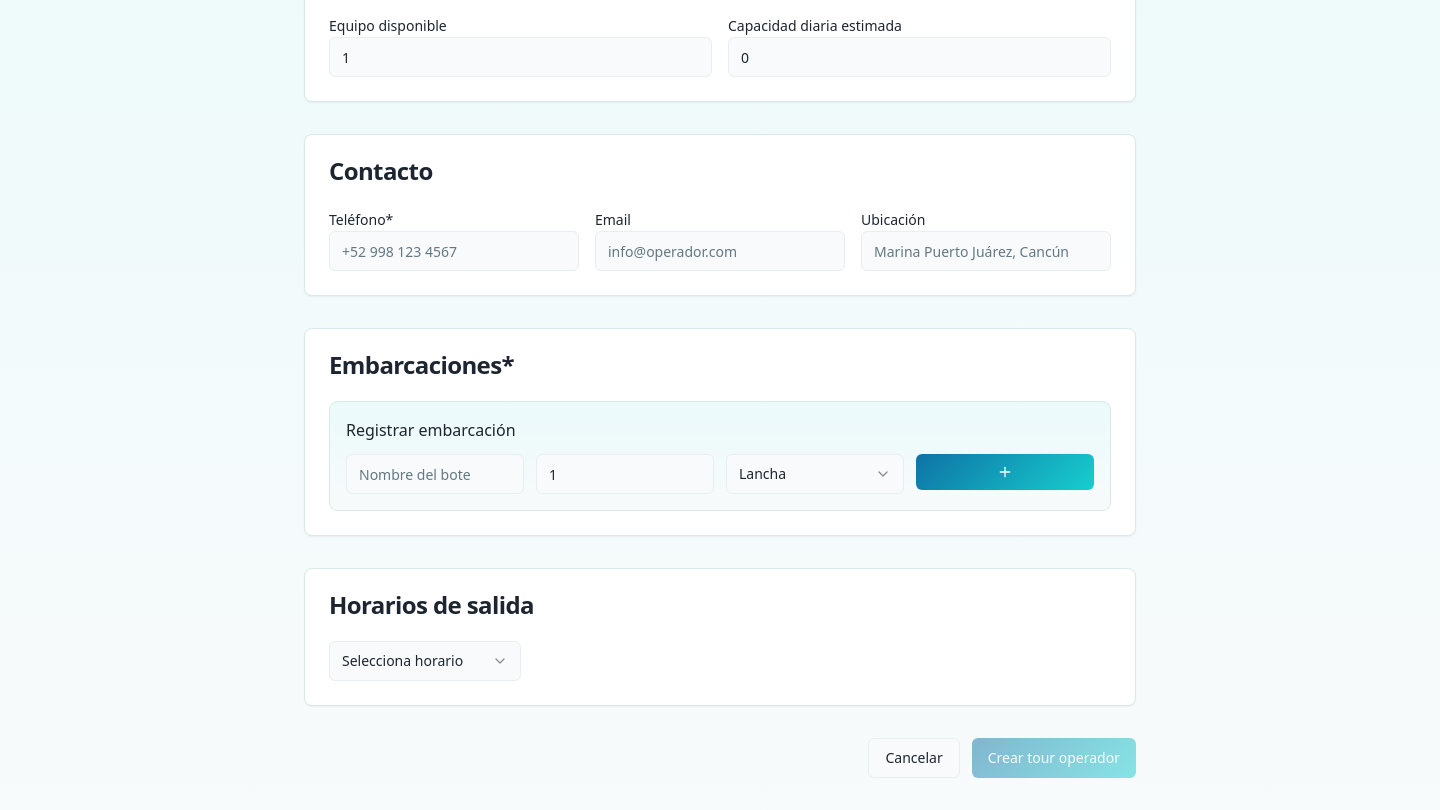
AddTourOperatorForm › resets staging inputs after adding a boat or schedule
(page scrolled)
In the field with placeholder "Nombre del bote": (435, 474) [346,454,524,494], type "Sea Breeze"
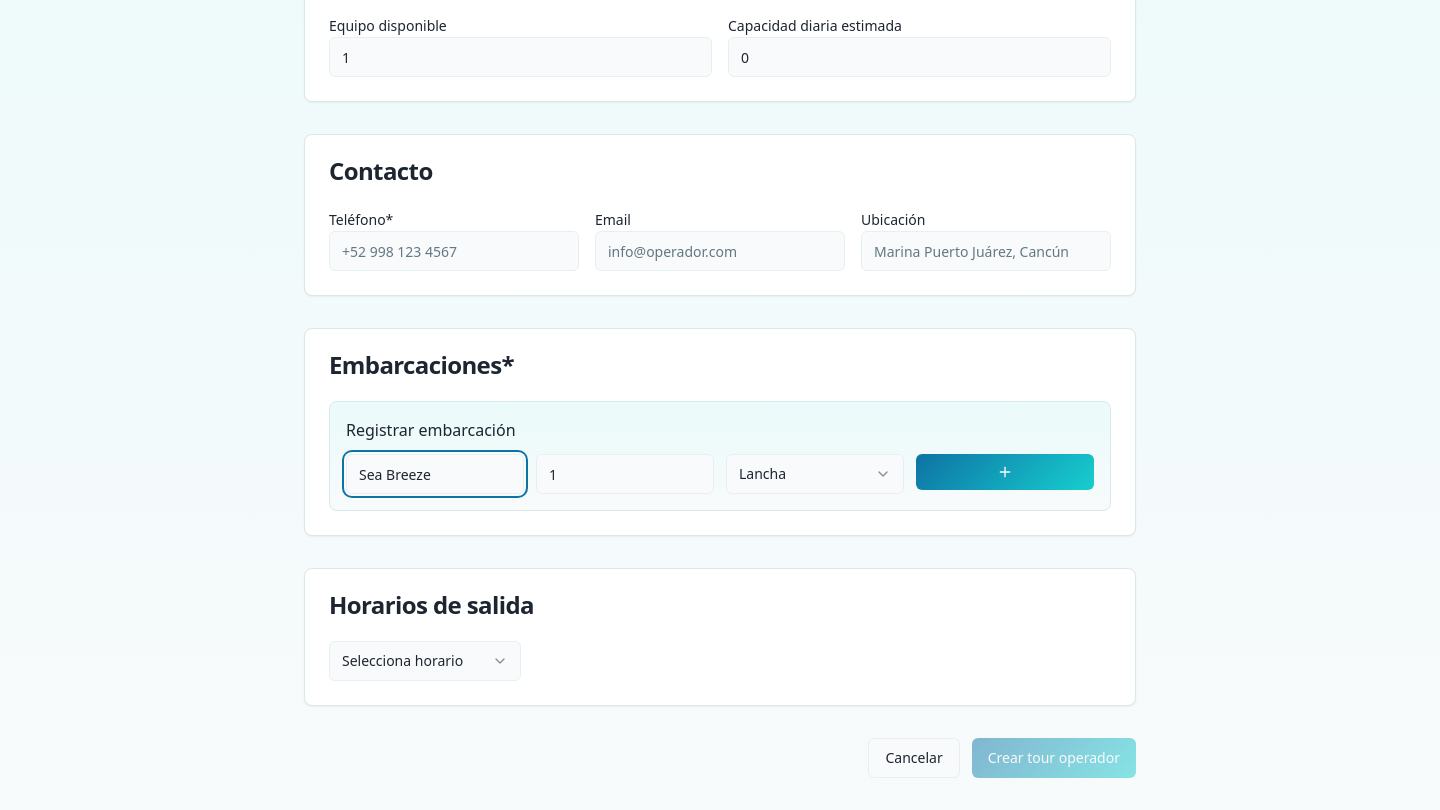
Replace the text in the number field with placeholder "Capacidad" with "20": (625, 474) [536,454,714,494]
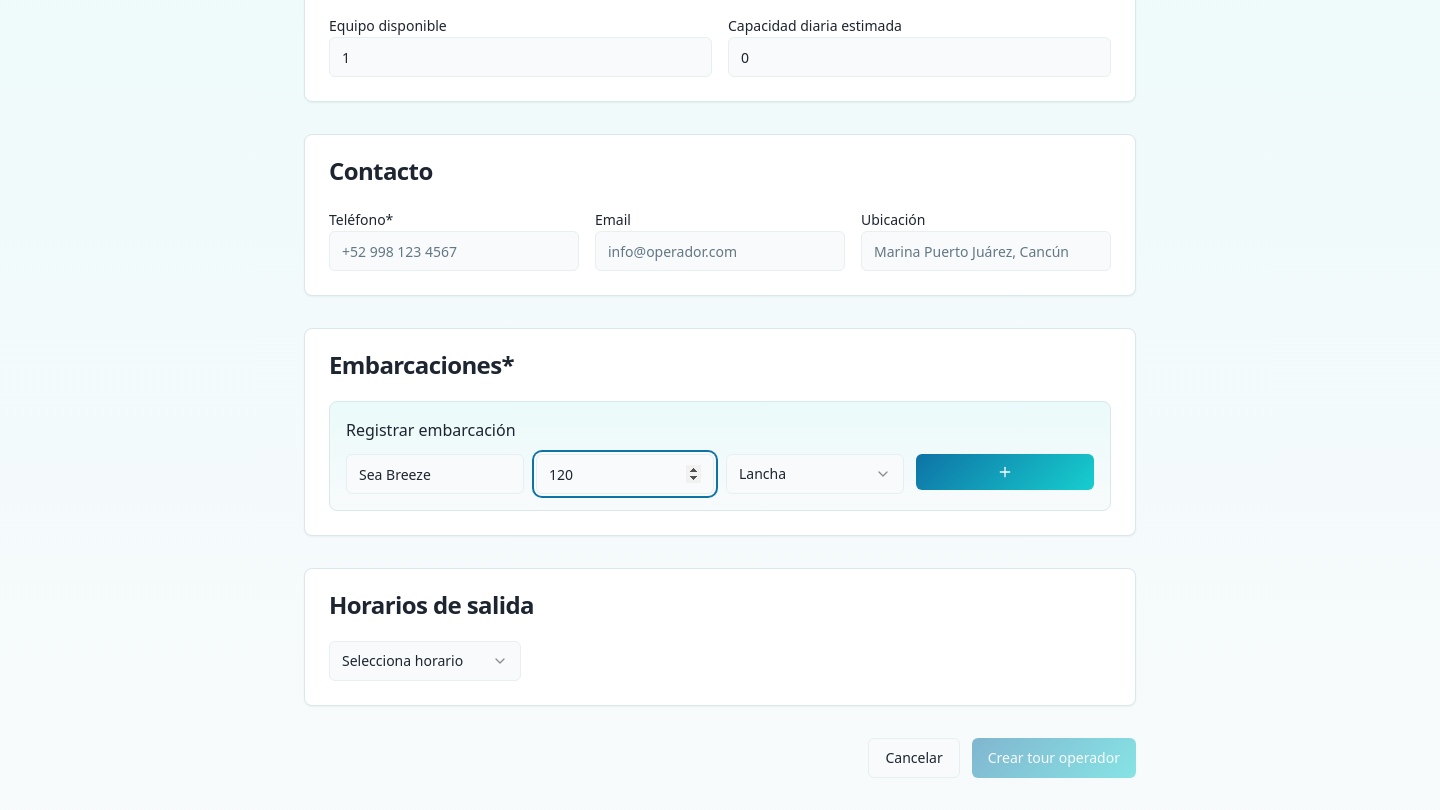
Click the 1st button: (1005, 472) [916,454,1094,490]
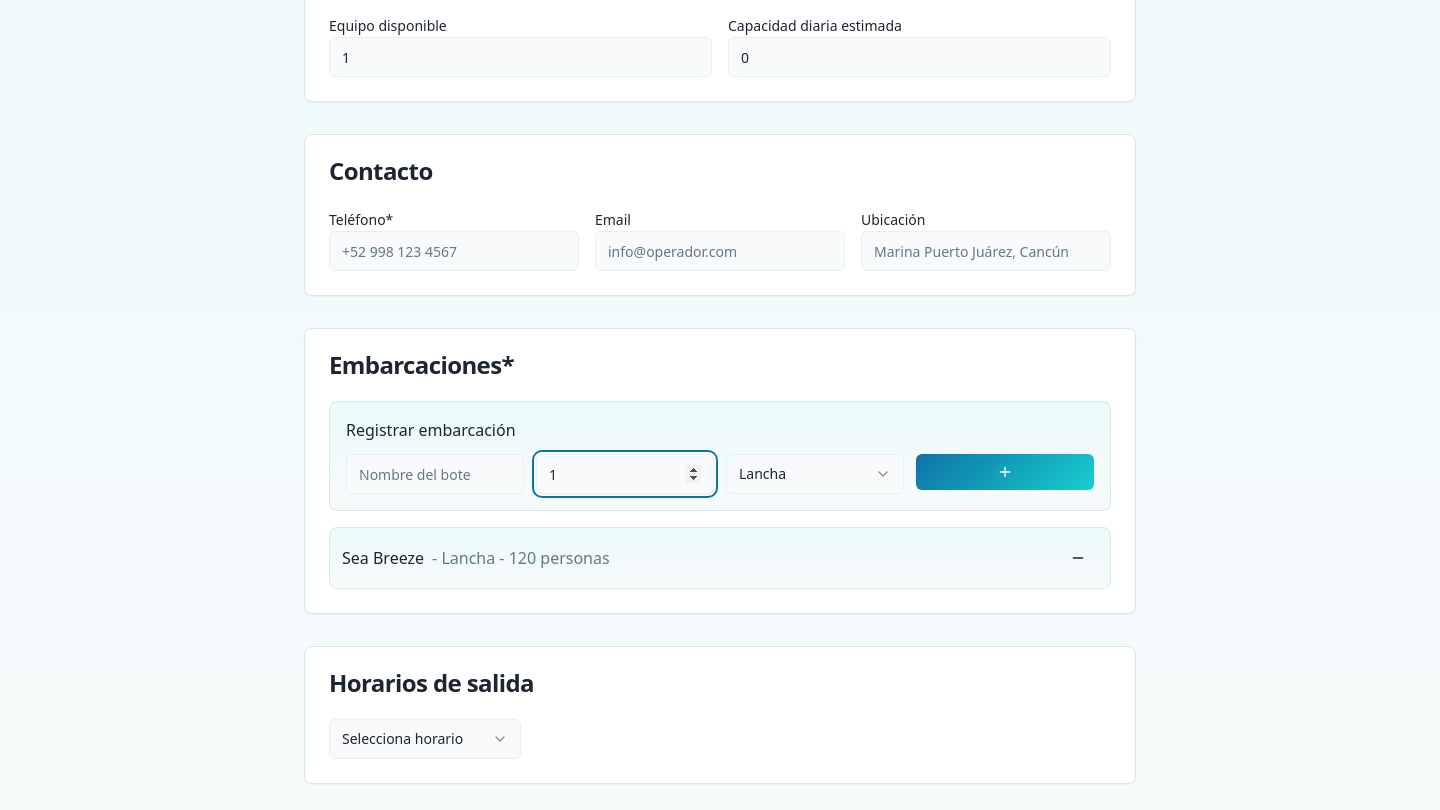
Result: the field with placeholder "Nombre del bote" is empty at [346,454,524,494]
Result: the number field with placeholder "Capacidad" holds "1" at [536,454,714,494]
